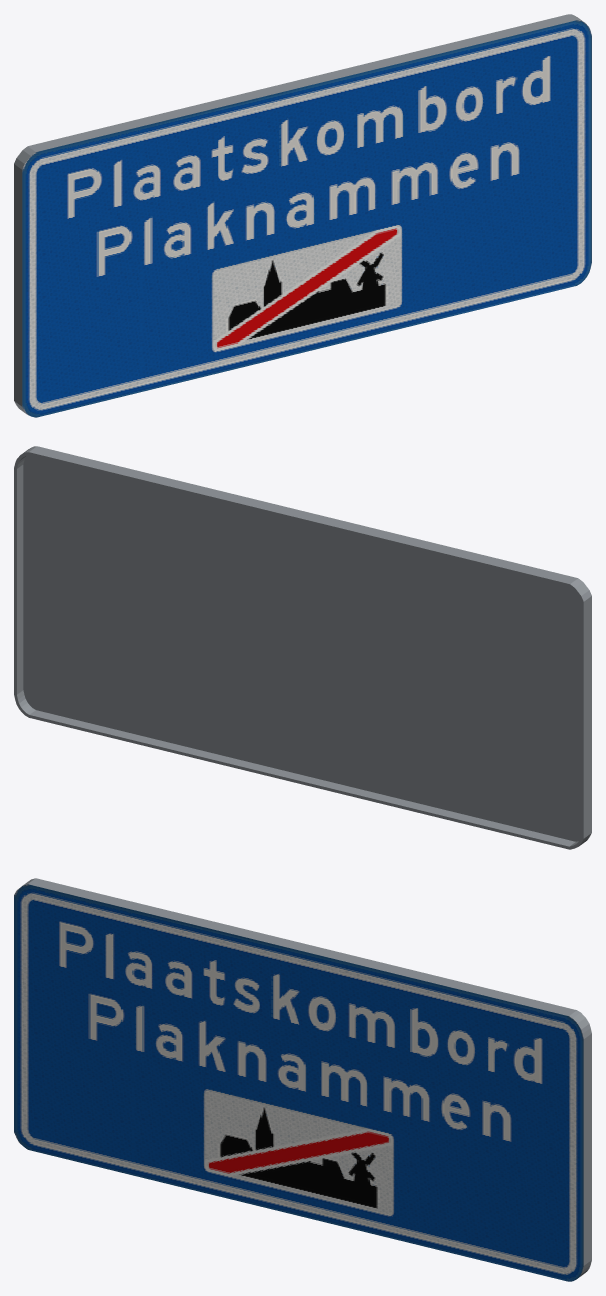
3 views of the same model, one above another, from view 1: azimuth 30°, elevation 25°; view 2: azimuth 150°, elevation 25°; view 3: azimuth 330°, elevation 25° (orthographic).
Visible parts, largest first — view 1: cat_65b1aa62ac81e197; view 2: cat_65b1aa62ac81e197; view 3: cat_65b1aa62ac81e197.
Part boxes in pixels (box(x1,y1,x2,y2)): cat_65b1aa62ac81e197: box(14, 14, 591, 417); cat_65b1aa62ac81e197: box(14, 446, 591, 849); cat_65b1aa62ac81e197: box(14, 878, 591, 1281).
Bounding box in the file's own units: 0.6 × 0.015 × 0.2672.
Materials: 2 (1 with a texture image).
